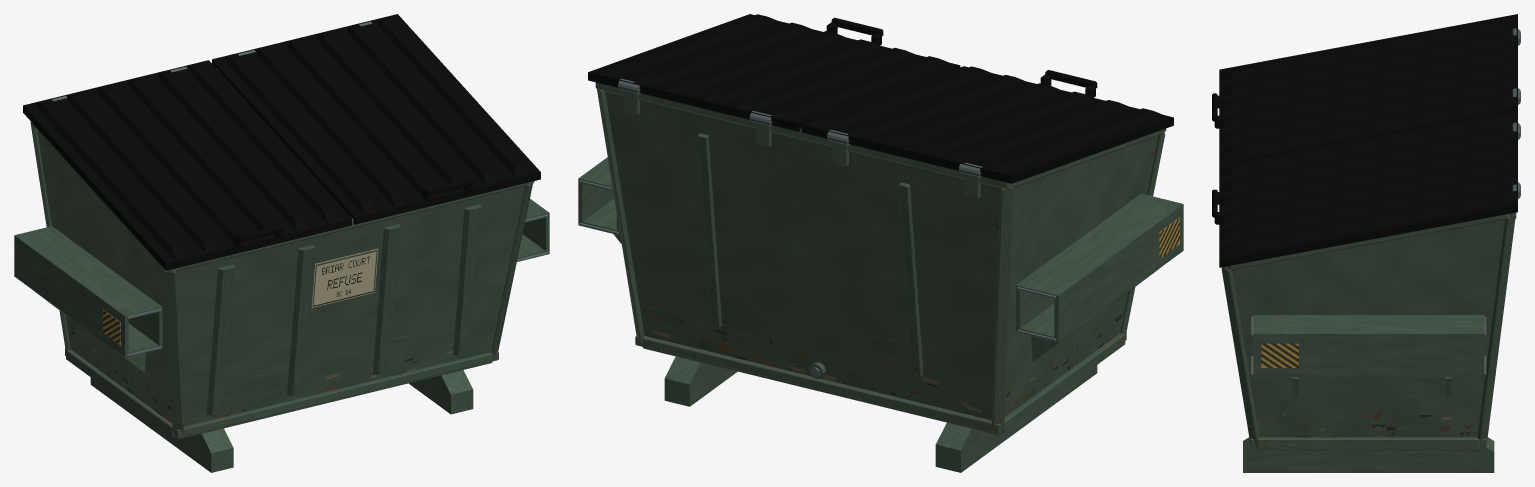
File: BC_DUMP01_closed.glb
The picture shows the model from 3 angles, left to right: view 1: azimuth 30°, elevation 25°; view 2: azimuth 150°, elevation 25°; view 3: azimuth 270°, elevation 25°; orthographic projection. The views are drawn at different scales.
Visible parts, largest first — view 1: BC_DUMP01_Body, BC_DUMP01_Lid_Left, BC_DUMP01_Lid_Right; view 2: BC_DUMP01_Body, BC_DUMP01_Lid_Left, BC_DUMP01_Lid_Right; view 3: BC_DUMP01_Body, BC_DUMP01_Lid_Right, BC_DUMP01_Lid_Left.
Boxes of the visible parts, <box> form: BC_DUMP01_Body: <box>14,21,549,472</box>; BC_DUMP01_Lid_Left: <box>23,60,351,270</box>; BC_DUMP01_Lid_Right: <box>212,14,540,224</box>; BC_DUMP01_Body: <box>578,79,1183,472</box>; BC_DUMP01_Lid_Left: <box>801,66,1173,183</box>; BC_DUMP01_Lid_Right: <box>588,14,960,131</box>; BC_DUMP01_Body: <box>1221,28,1520,472</box>; BC_DUMP01_Lid_Right: <box>1212,110,1517,267</box>; BC_DUMP01_Lid_Left: <box>1212,14,1517,165</box>.
Bounding box in the file's own units: 2.49 × 1.6 × 1.5.
Materials: 4 (4 with a texture image).
